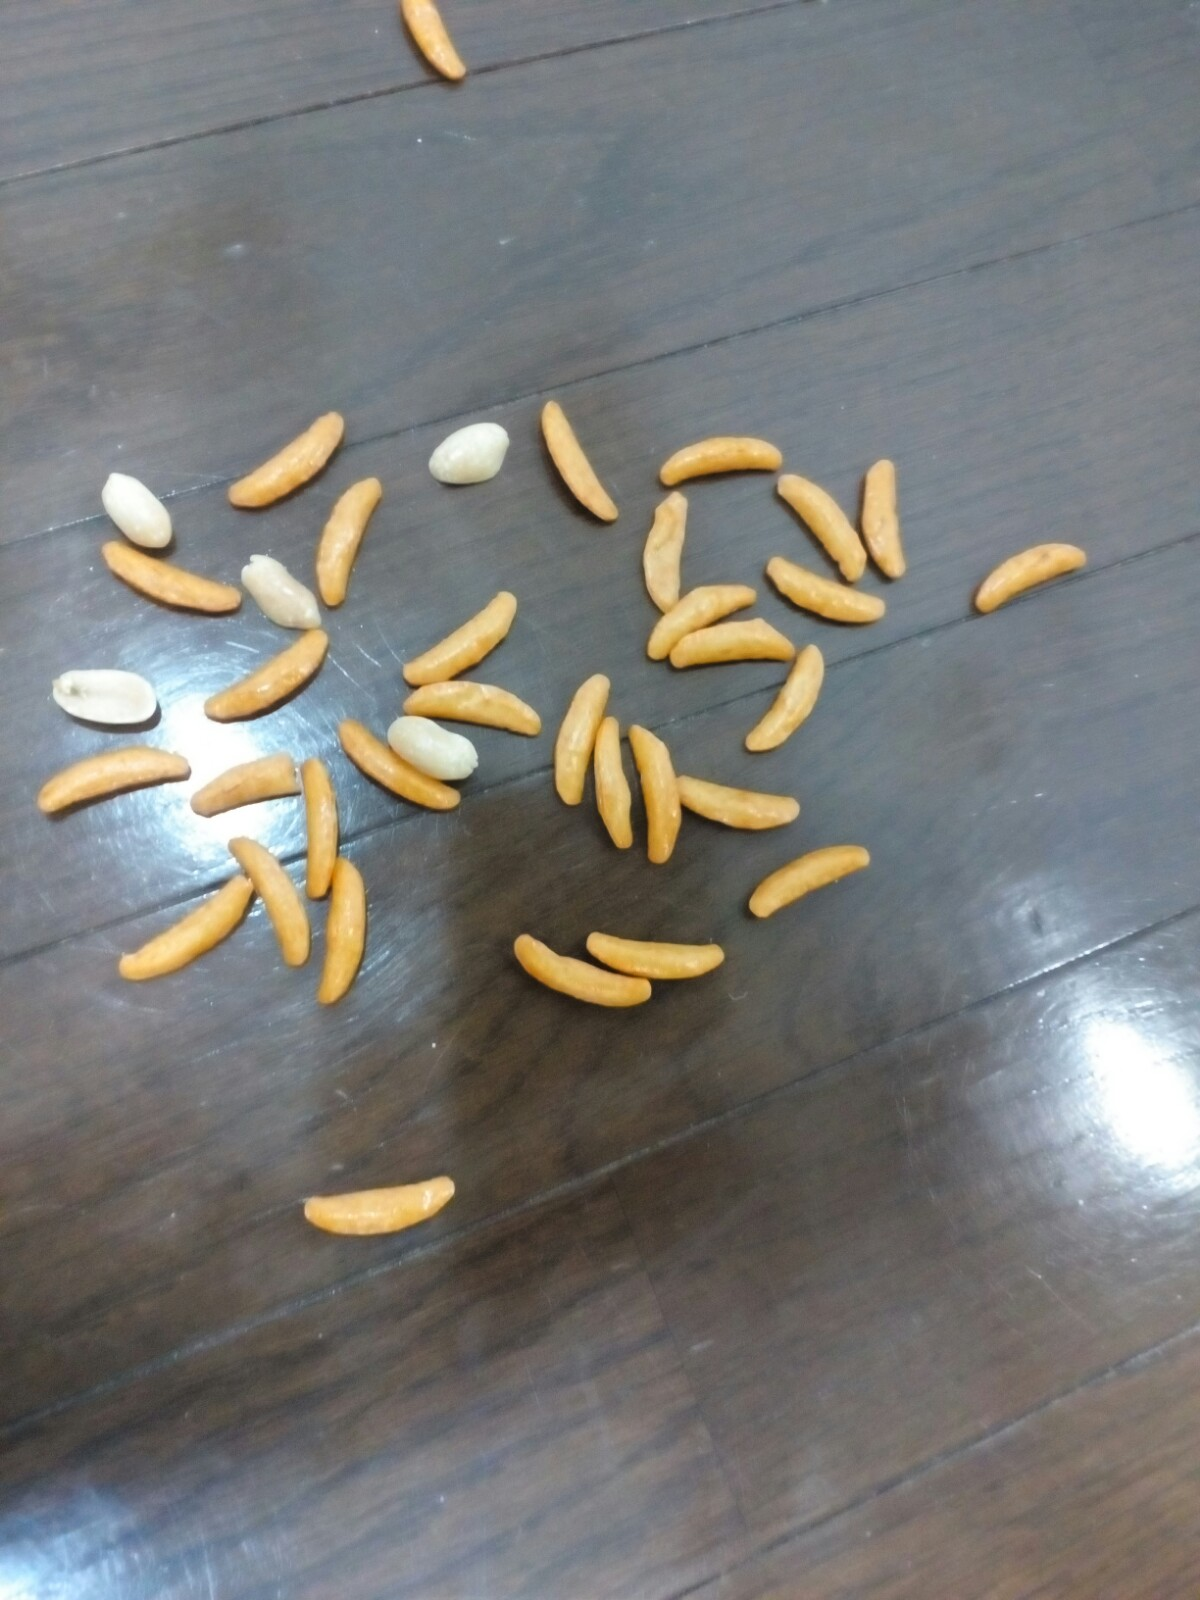peanut: (35, 655, 179, 738), (234, 535, 335, 653), (96, 455, 184, 564), (416, 409, 524, 496), (384, 704, 488, 791)
